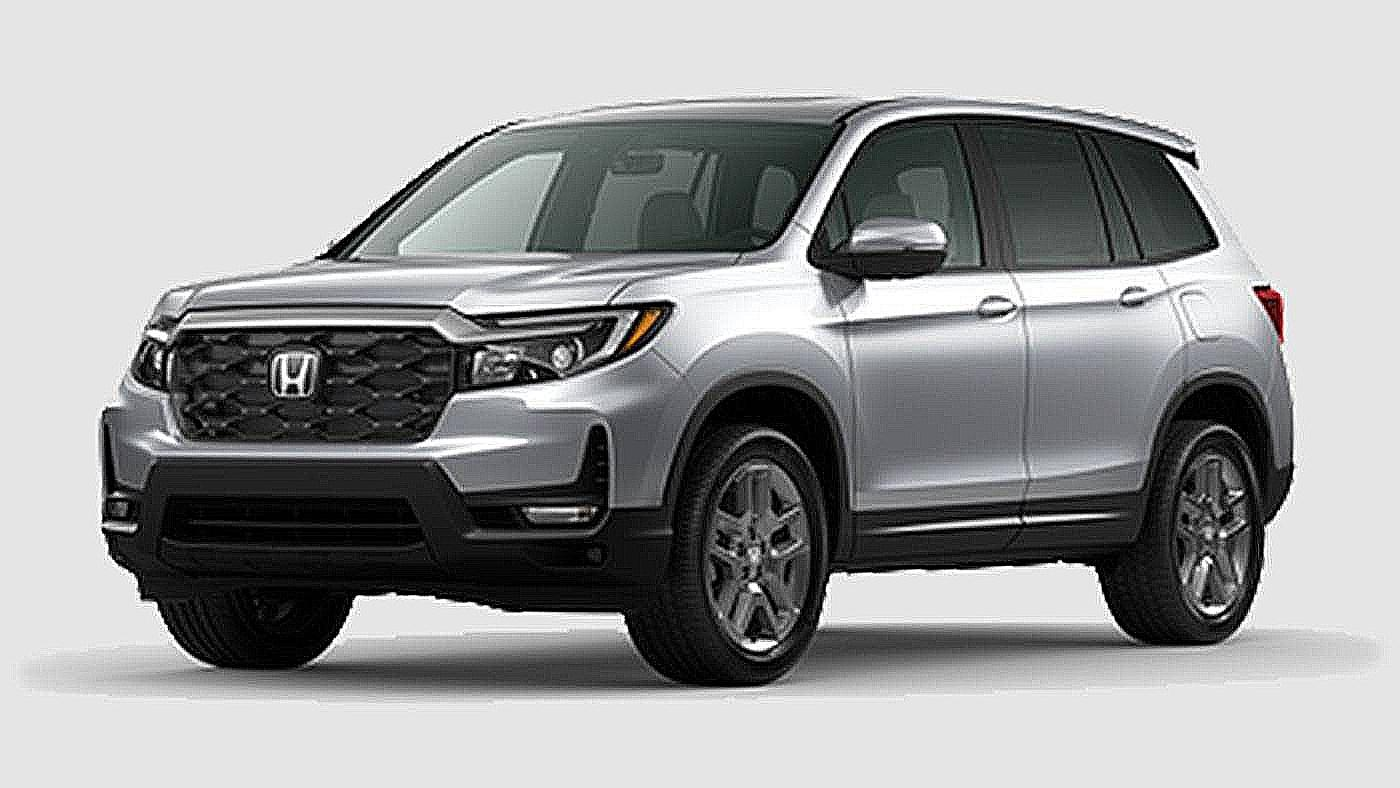Car hood: (125, 245, 769, 314)
Fender - -F-L-: (614, 243, 874, 584)
Fender - -R-L-: (1148, 220, 1283, 425)
Front bumper: (99, 346, 710, 620)
Headlight - -L-: (438, 297, 683, 391)
Headlight - -R-: (120, 305, 199, 405)
Passenger-s door - -F-L-: (820, 105, 1033, 514)
Passenger-s door - -R-L-: (1003, 112, 1186, 510)
Rear bumper: (1258, 332, 1325, 525)
Rear light - -L-: (1228, 245, 1312, 350)
Side bumper - -L-: (828, 491, 1163, 578)
Side mirror - -L-: (808, 208, 974, 298)
